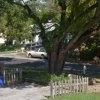Tree: (17, 4, 98, 62)
